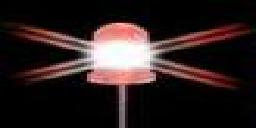LED: (82, 22, 157, 125)
